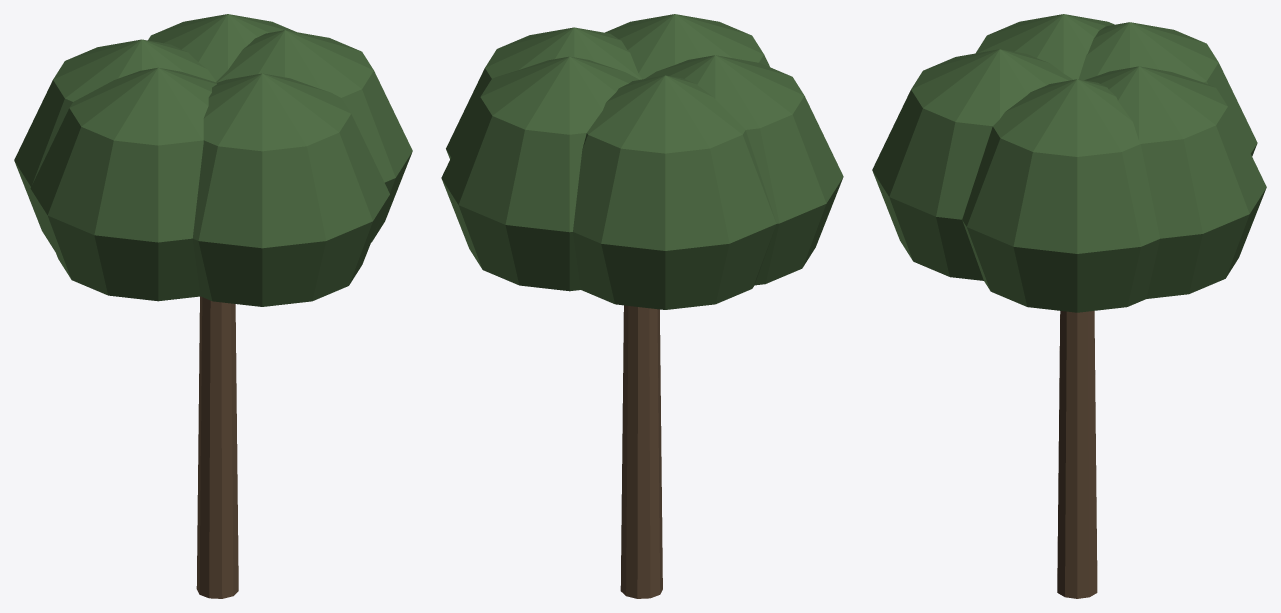
File: tree.glb
The picture shows the model from 3 angles, left to right: view 1: azimuth 30°, elevation 25°; view 2: azimuth 150°, elevation 25°; view 3: azimuth 270°, elevation 25°; orthographic projection.
Bounding box in the file's own units: 3.69 × 5.4 × 3.55.
